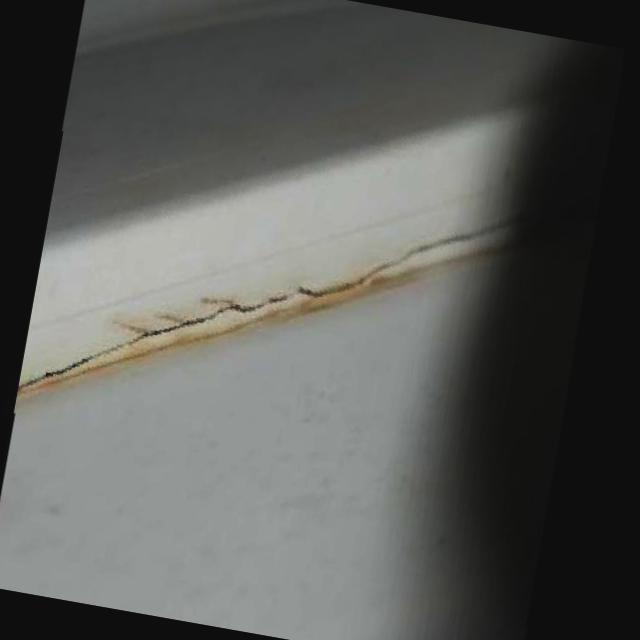crack: (218, 276, 326, 323), (17, 346, 90, 400), (131, 310, 205, 354)
